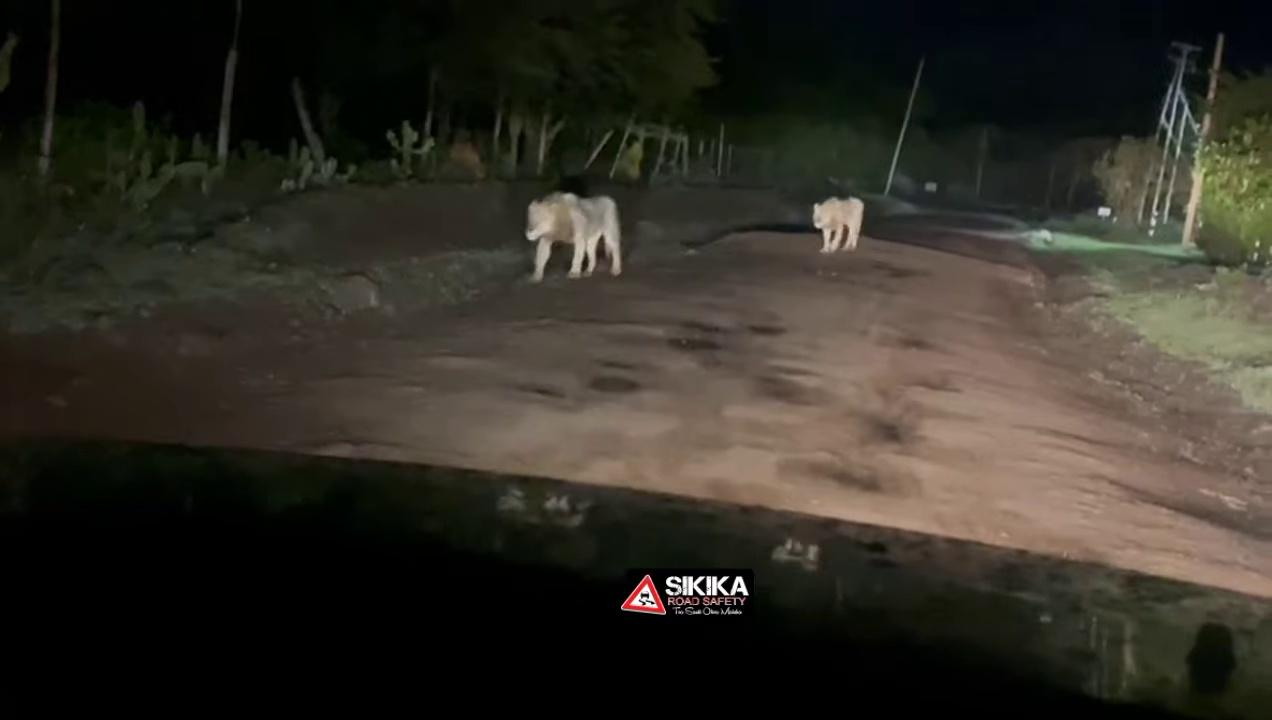lions: (492, 177, 631, 290), (808, 193, 879, 274)
